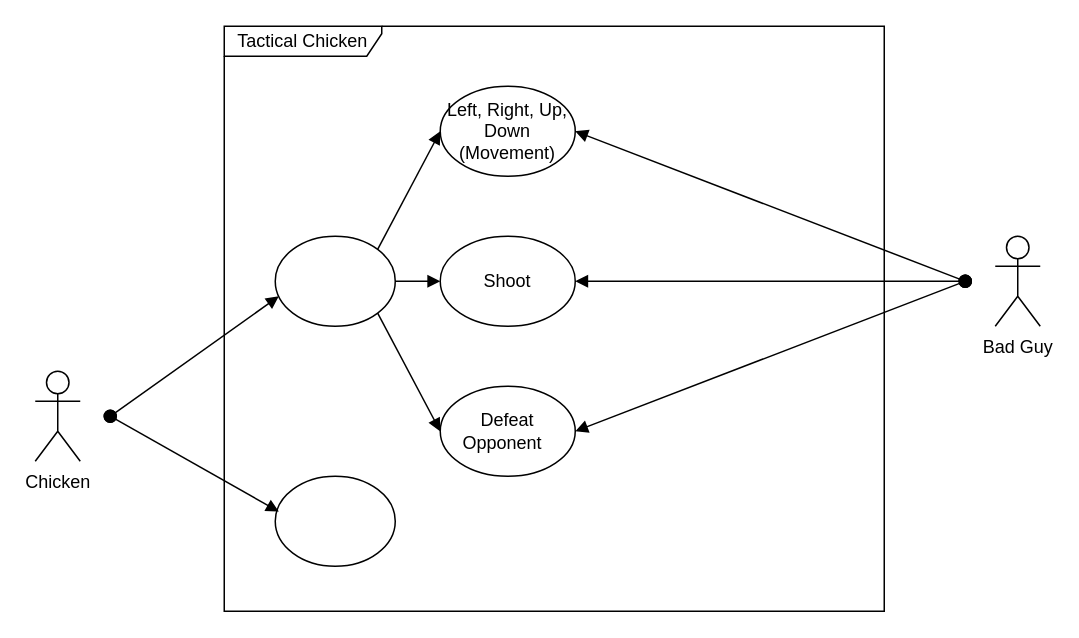
This 1079x638 diagram has some shape labels left out. Here are the shapes that lost their labels. From the top down, the box of each, then its label:
(274, 235, 395, 326): Play Game
(274, 475, 395, 566): Quit
